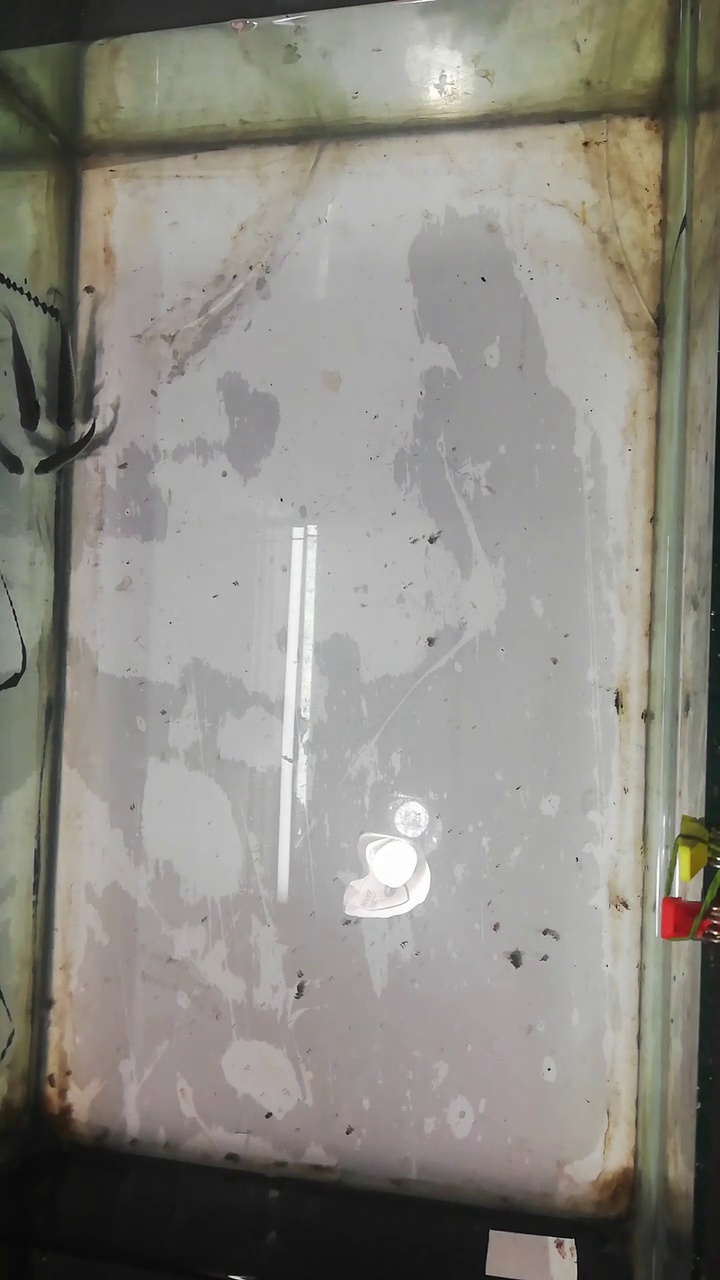fish1: (52, 308, 81, 431)
fish2: (32, 427, 102, 474)
